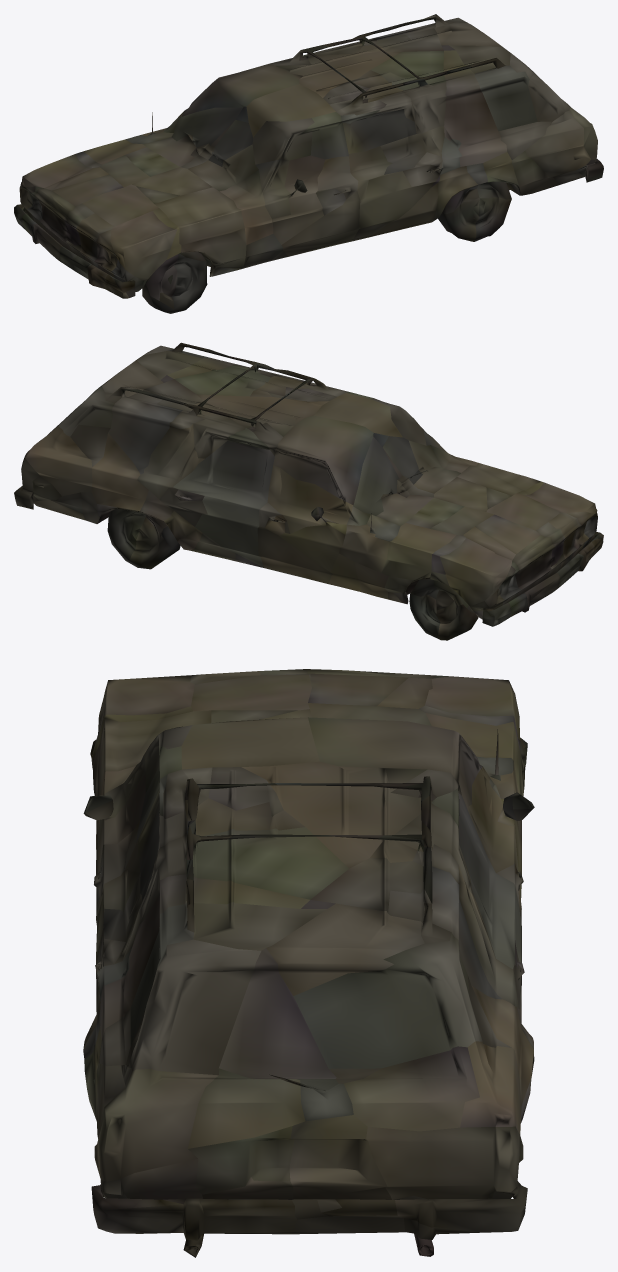
File: car_hatchback_light_q1.glb
3 views of the same model, one above another, from view 1: azimuth 30°, elevation 25°; view 2: azimuth 150°, elevation 25°; view 3: azimuth 270°, elevation 25° (orthographic). The views are drawn at different scales.
Size of the model in its own units: 4.62 by 1.44 by 1.82.
Materials: 1 (1 with a texture image).
